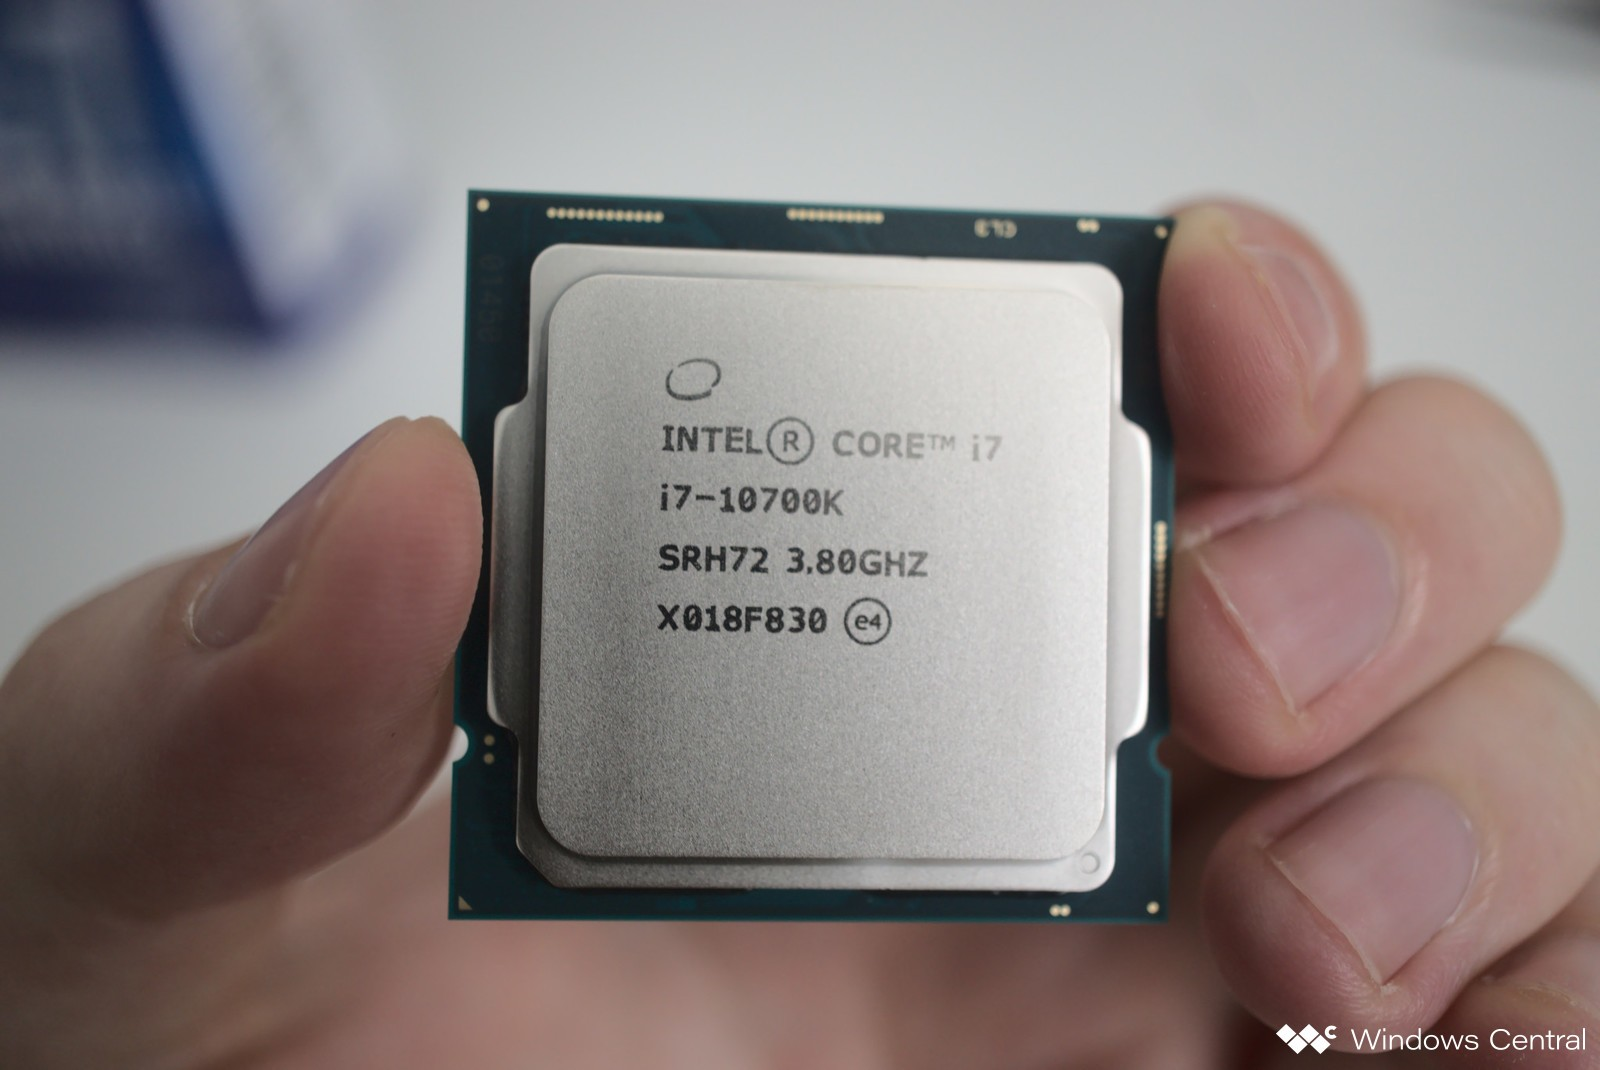processor: (448, 190, 1174, 934)
